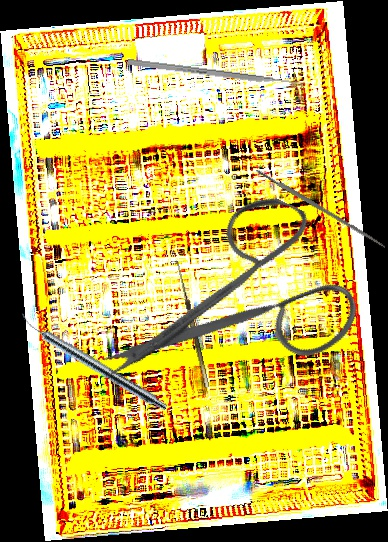Handpiece: (15, 311, 171, 414)
Hook Surgical: (169, 259, 210, 390)
Iris Scissors: (96, 159, 387, 460)
Pusher: (127, 58, 312, 89)
Scalpel Handle: (254, 166, 387, 250)
